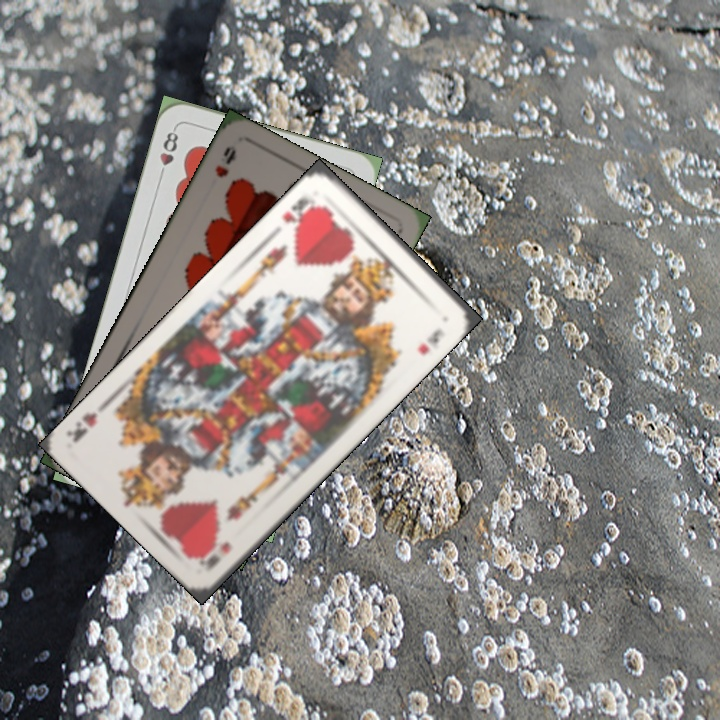H8: (155, 124, 181, 182)
H9: (211, 141, 239, 180)
HK: (278, 193, 322, 232), (195, 537, 234, 573)
